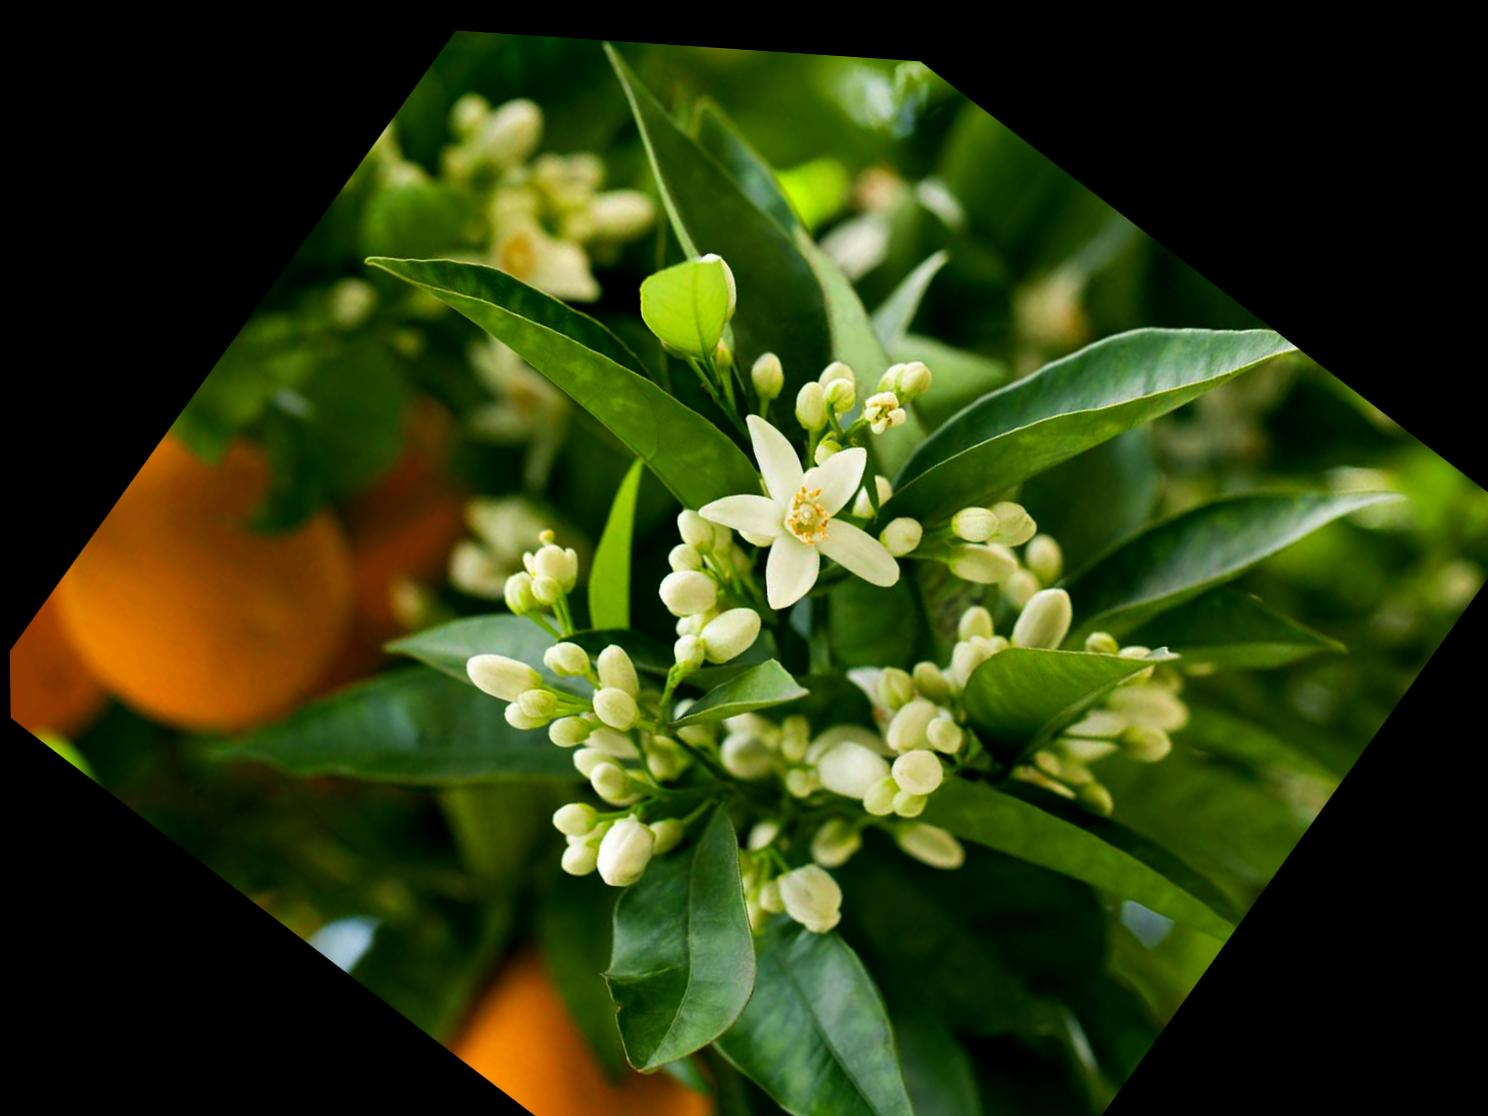Healthy Citrus: (856, 165, 1322, 683), (501, 35, 883, 396), (394, 218, 749, 512), (547, 778, 824, 1098), (942, 522, 1214, 816), (688, 898, 999, 1116)
